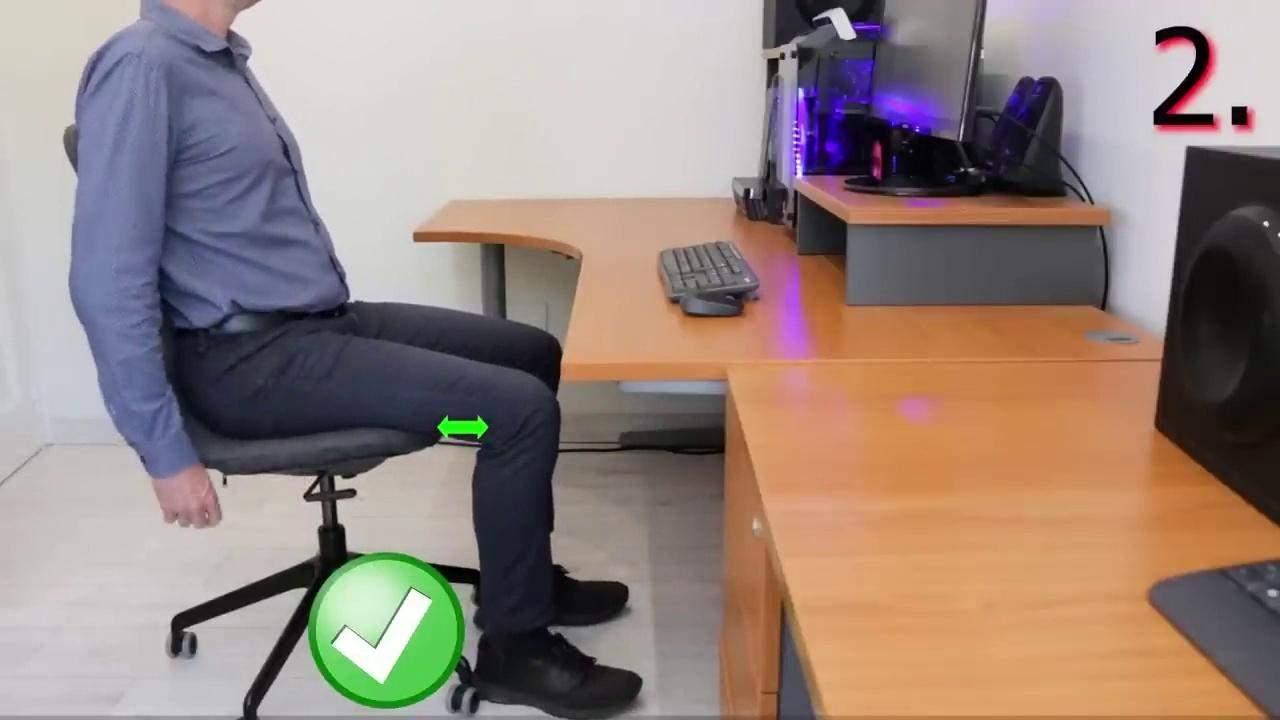GoodPosture: (61, 0, 633, 712)
